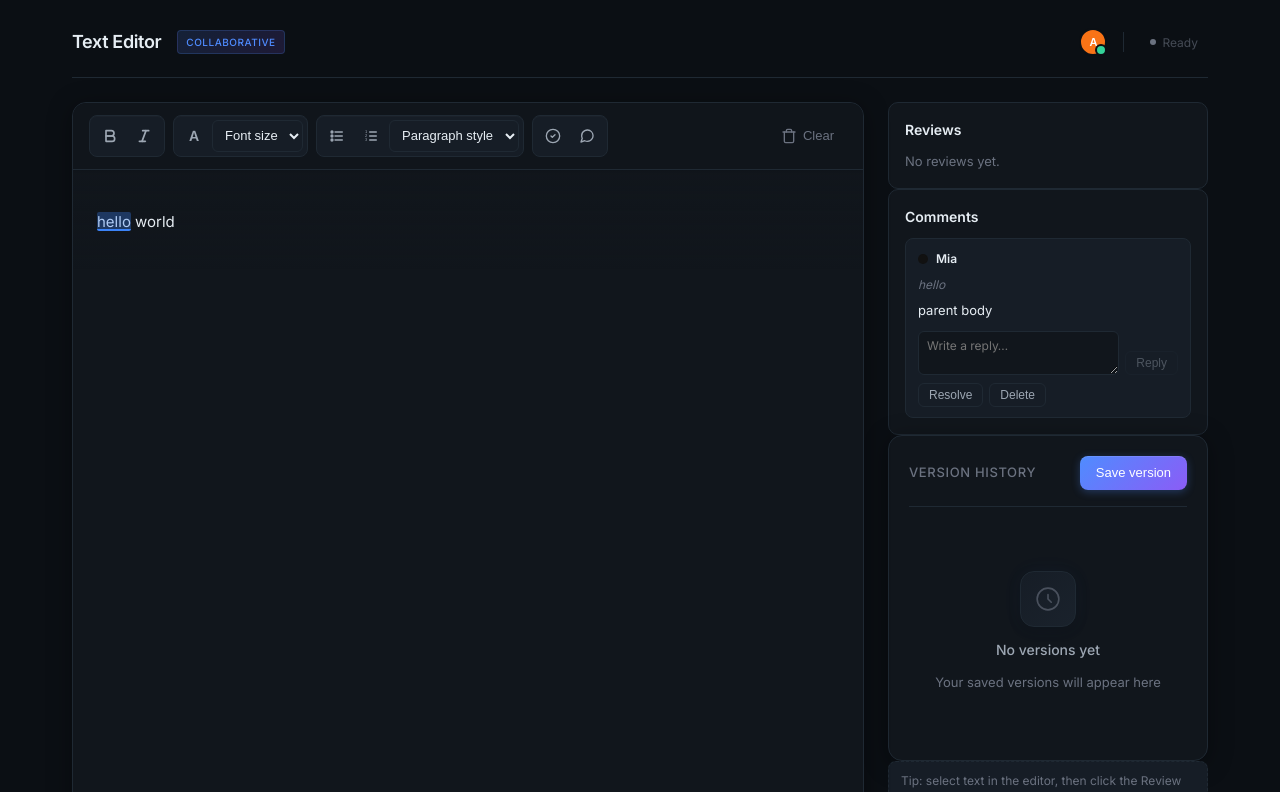
App — Requirement 9: comments end-to-end › adding a reply appends to the thread and broadcasts
Type "first reply" into the text box labelled "Write a reply…". click: point(1019, 352)
box: [918,330,1119,374]
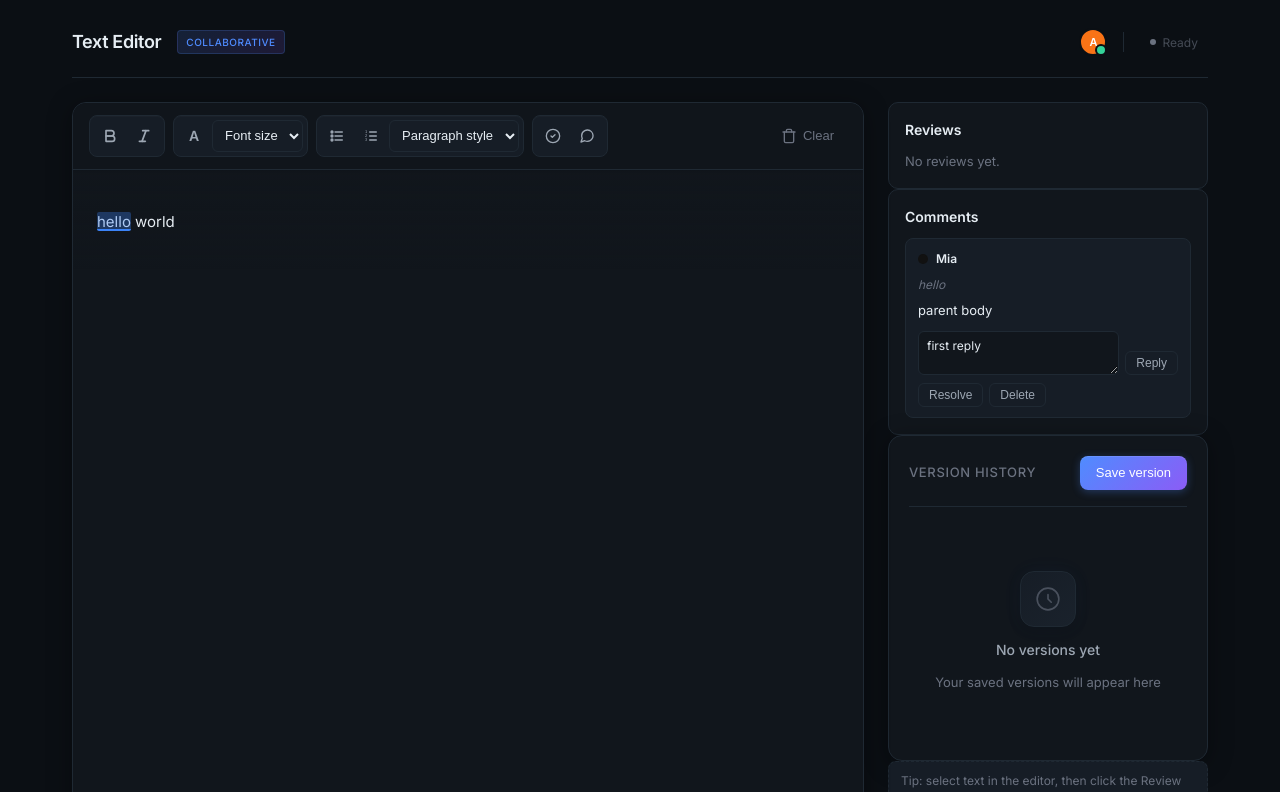
Click the button "Reply". click: point(1152, 362)
box: [1125,350,1178,374]
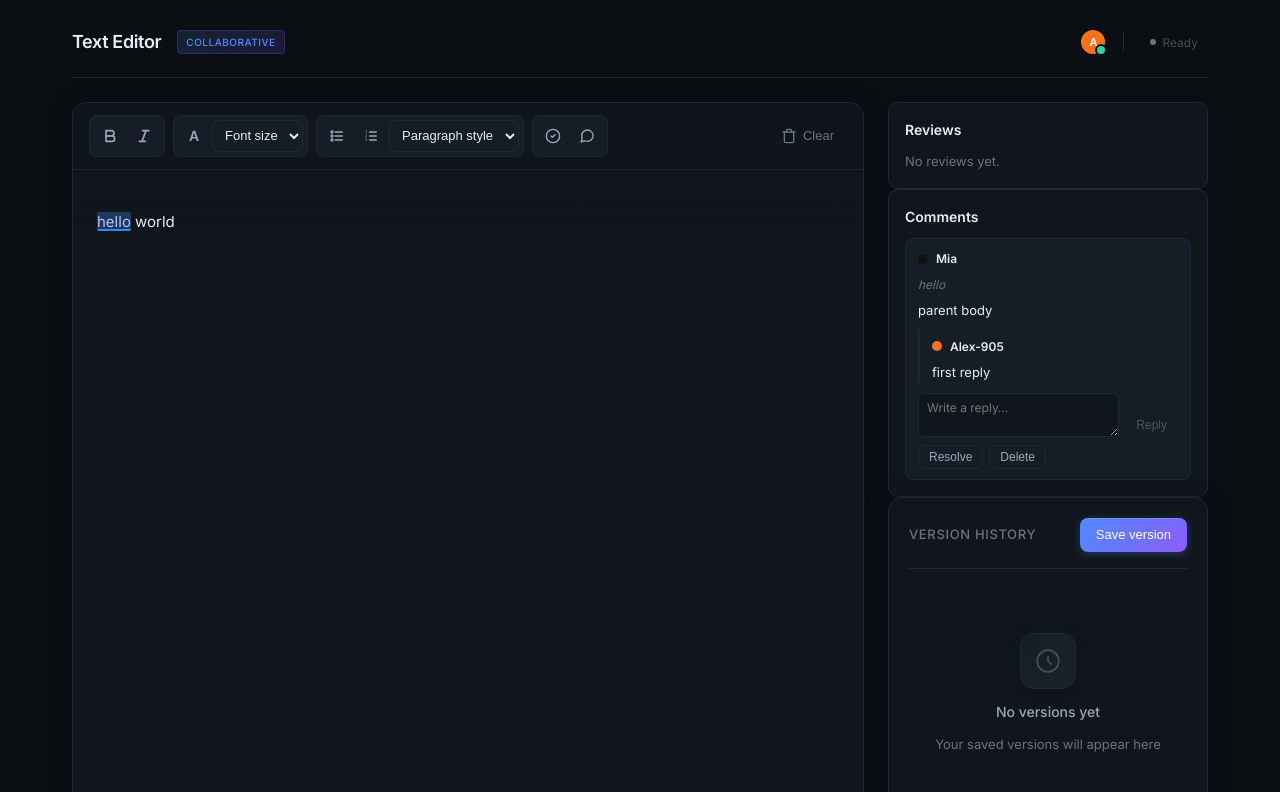
Result: the list item with test id "comment-item-parent" shows "first reply" at [932,364,990,380]
Result: the text "first reply" is shown at [932,364,990,380]
